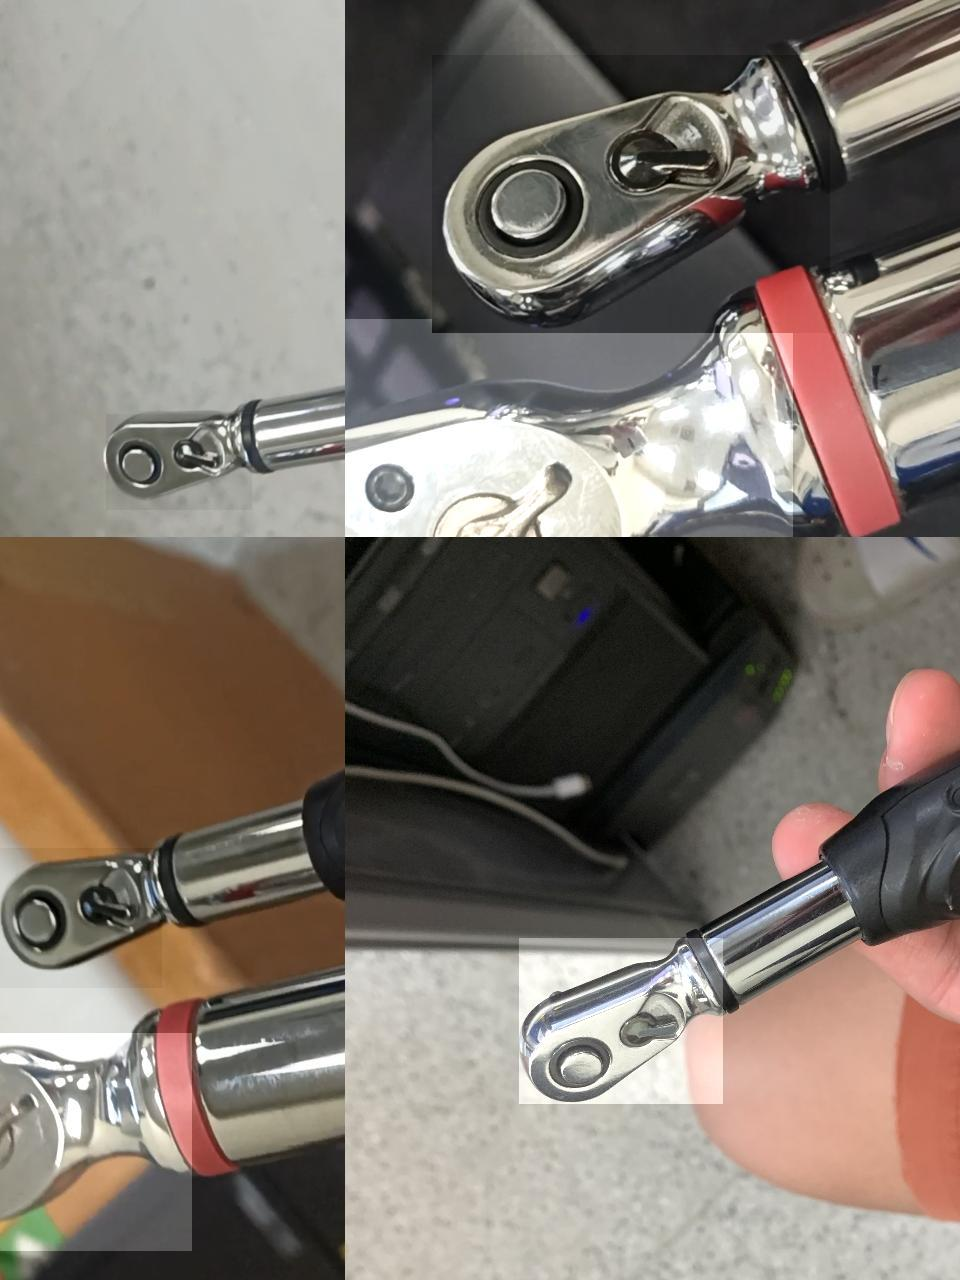Tool: (431, 54, 829, 332), (345, 318, 792, 537), (0, 1032, 191, 1250), (517, 937, 722, 1103), (0, 847, 161, 987), (105, 413, 251, 509)
